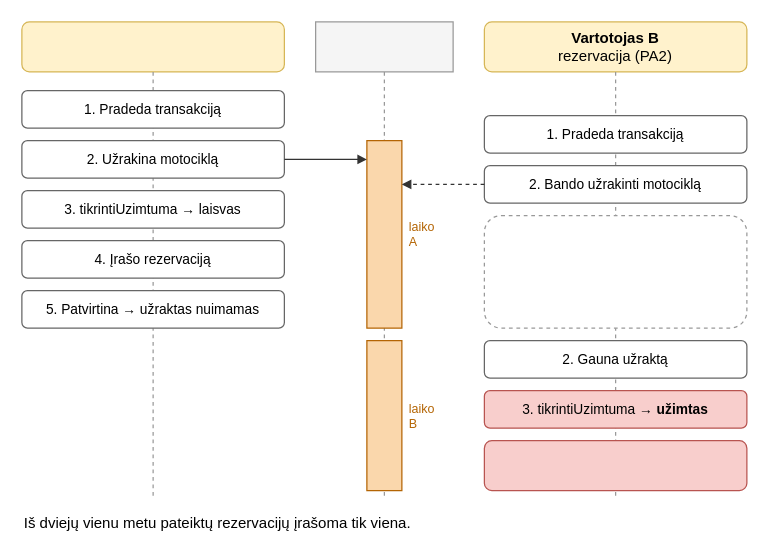
The diagram is 769 pixels wide and 559 high, and some of its shapes have lost their labels. Here are the shapes that lost their labels. From the top down, the centre of each, then its label:
At point 152,46: "Vartotojas A rezervacija (PA2)".
At point 383,46: "Motociklo įrašas (užraktas)".
At point 615,271: "laukia, kol A baigs".
At point 615,465: "4. Atšaukia transakciją, rodo „Motociklas užimtas …“".
